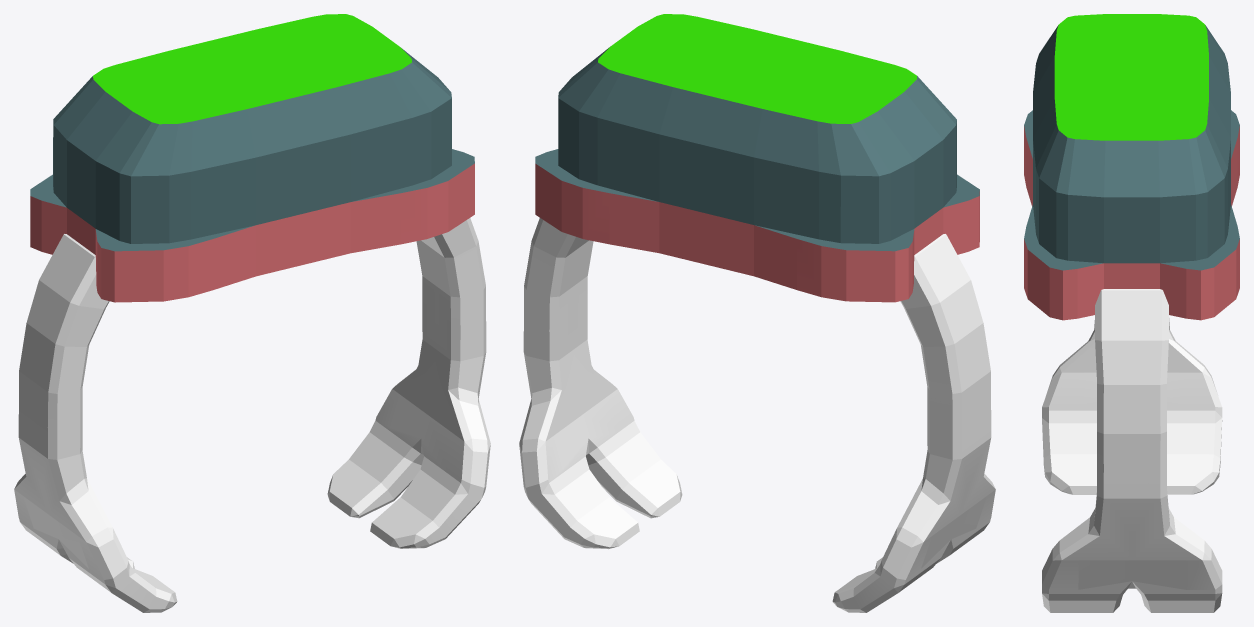
Rendered from PlayerCraneMagnet.fbx.
3 renders of one model, left to right at view 1: azimuth 30°, elevation 25°; view 2: azimuth 150°, elevation 25°; view 3: azimuth 270°, elevation 25°, orthographic. The views are drawn at different scales.
Visible parts, largest first — view 1: Cube, Cube_001; view 2: Cube, Cube_001; view 3: Cube, Cube_001.
Boxes of the visible parts, x1=… form: Cube: x1=30, y1=14, x2=474, y2=302; Cube_001: x1=14, y1=218, x2=490, y2=612; Cube: x1=535, y1=14, x2=979, y2=302; Cube_001: x1=519, y1=218, x2=995, y2=612; Cube: x1=1024, y1=14, x2=1239, y2=320; Cube_001: x1=1042, y1=289, x2=1222, y2=612.
Bounding box in the file's own units: 72.82 × 76.99 × 31.91.
